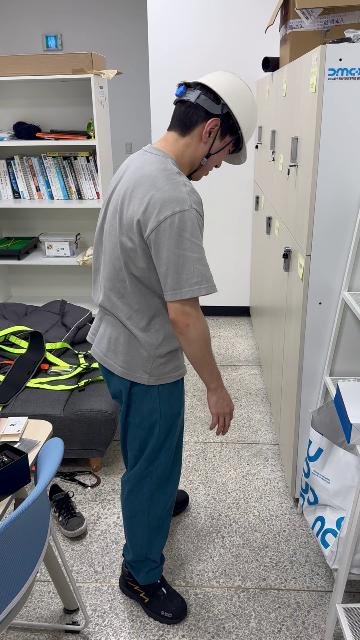helmet_worn: (183, 70, 257, 164)
shoe_not_worn: (48, 483, 88, 538)
shoe_worn: (120, 559, 187, 625), (172, 489, 189, 517)
vest_not_worn: (94, 151, 204, 399)
